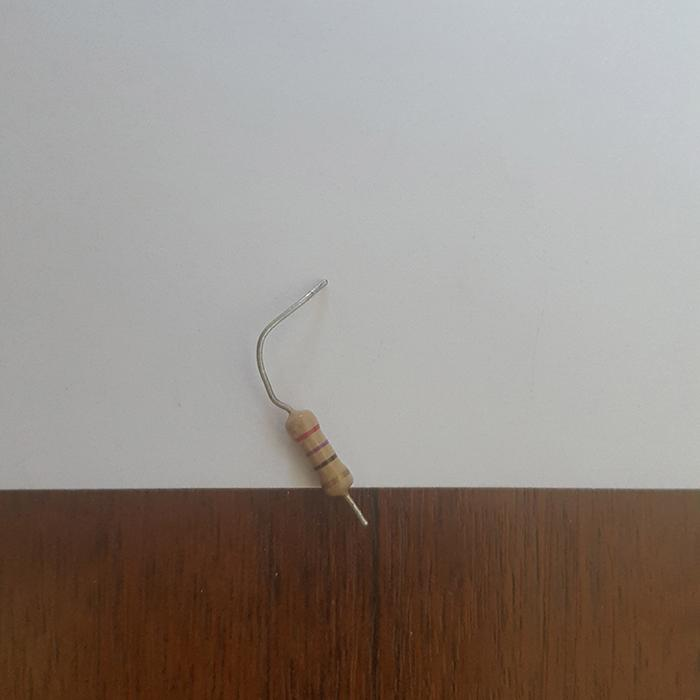resistor: (284, 407, 359, 513)
